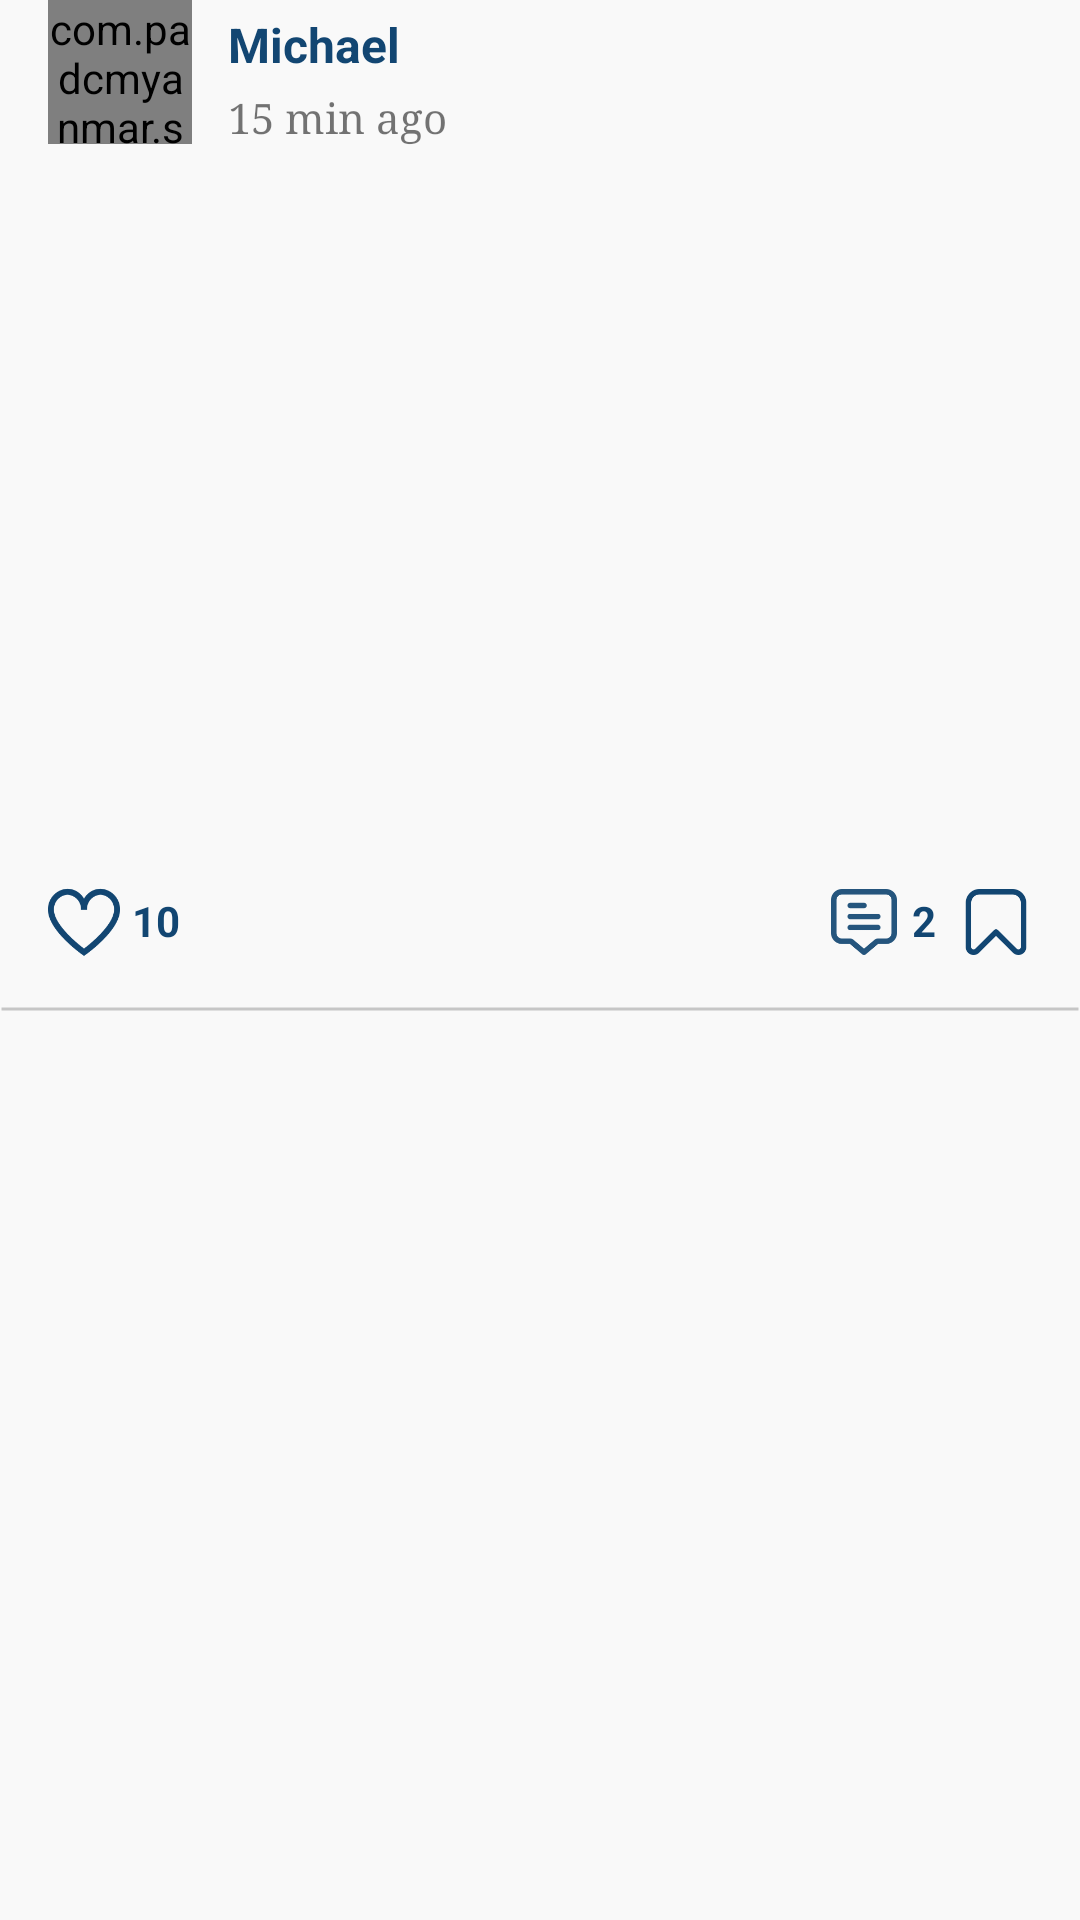

Named icons in this screenshot (1080*1920) and their centers, (x,y):
bookmark: (996,922)
comment: (864,922)
heart: (84,922)
